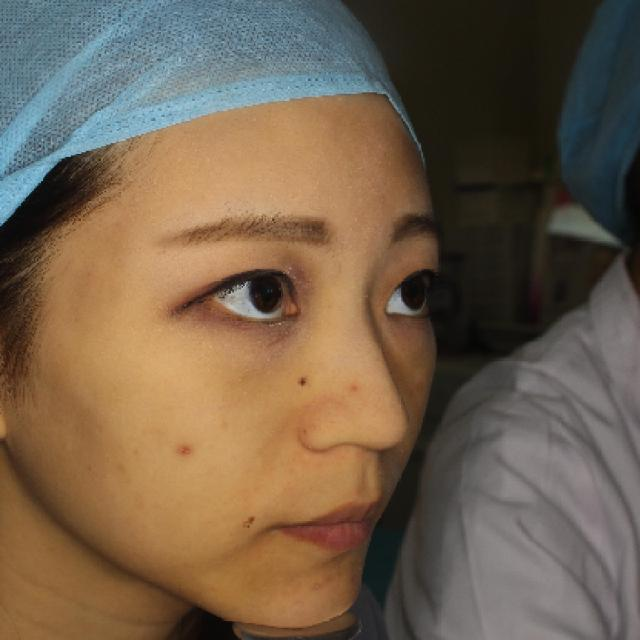Blackheads: (290, 366, 316, 399)
